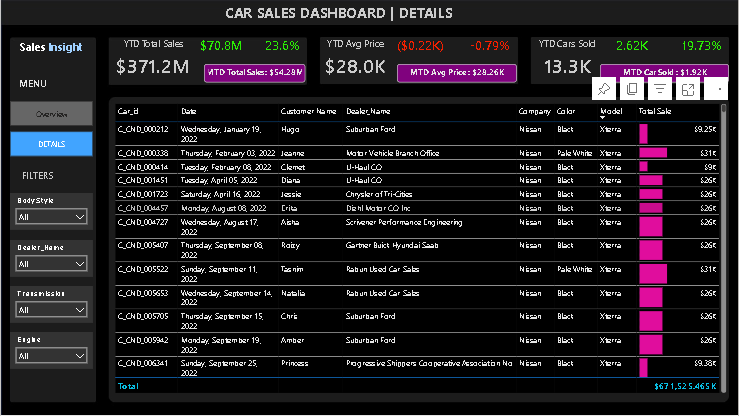

This screenshot's page, from the dashboard's own definition file:
{"tool":"powerbi","page":{"name":"DETAILS","canvas":[1280,720],"ordinal":1},"visuals":[{"type":"card","title":" YTD Total Sales","fields":{"Values":["Car_data.YTD Total Sales"]},"box":[192,64,144,80],"z":0},{"type":"card","fields":{"Values":["Car_data.Sales Difference"]},"box":[336,64,96,32],"z":1000},{"type":"card","fields":{"Values":["Car_data.YOY Sales Growth"]},"box":[448,64,80,32],"z":2000},{"type":"card","fields":{"Values":["Car_data.MTD KPI"]},"box":[352,112,176,32],"z":3000},{"type":"card","title":" YTD Avg Price","fields":{"Values":["Car_data.YTD Avg Price"]},"box":[560,64,112,80],"z":4000},{"type":"card","fields":{"Values":["Car_data.Avg price Diff"]},"box":[672,64,112,32],"z":5000},{"type":"card","fields":{"Values":["Car_data.YoY Avg Price Growth"]},"box":[800,64,96,32],"z":6000},{"type":"card","fields":{"Values":["Car_data.MTD Avg price KPI"]},"box":[688,112,208,32],"z":7000},{"type":"card","title":" YTD Cars Sold","fields":{"Values":["Car_data.YTD car Sold"]},"box":[928,64,112,80],"z":8000},{"type":"card","fields":{"Values":["Car_data.Car Sold Diff"]},"box":[1040,64,112,32],"z":9000},{"type":"card","fields":{"Values":["Car_data.YoY Car Sold"]},"box":[1168,64,96,32],"z":10000},{"type":"card","fields":{"Values":["Car_data.MTD Cars Sold KPI"]},"box":[1040,112,224,32],"z":11000},{"type":"textbox","box":[384,0,464,48],"z":12000},{"type":"slicer","fields":{"Values":["Car_data.Body Style"]},"box":[16,336,144,64],"z":13000},{"type":"slicer","fields":{"Values":["Car_data.Dealer_Name"]},"box":[16,416,144,64],"z":14000},{"type":"slicer","fields":{"Values":["Car_data.Transmission"]},"box":[16,496,144,64],"z":15000},{"type":"slicer","fields":{"Values":["Car_data.Engine"]},"box":[16,576,144,64],"z":16000},{"type":"textbox","box":[16,288,96,32],"z":17000},{"type":"tableEx","fields":{"Values":["Car_data.Car_id","Car_data.Date","Car_data.Customer Name","Car_data.Dealer_Name","Car_data.Company","Car_data.Color","Car_data.Model","Car_data.Total Sale"]},"box":[192,176,1072,512],"z":18000},{"type":"textbox","box":[16,64,144,48],"z":19000},{"type":"textbox","box":[16,128,80,32],"z":20000},{"type":"pageNavigator","box":[16,176,144,96],"z":21000}]}

Visuals, with their boxes on the page's 1280x720 design canvas (x1, y1, x2, y2). These are canvas units, not pixel positions in the 739x416 screenshot, which may show the page scaled, cropped or inside an application window:
" YTD Total Sales" card: 192:64:336:144
card - Car_data.Sales Difference: 336:64:432:96
card - Car_data.YOY Sales Growth: 448:64:528:96
card - Car_data.MTD KPI: 352:112:528:144
" YTD Avg Price" card: 560:64:672:144
card - Car_data.Avg price Diff: 672:64:784:96
card - Car_data.YoY Avg Price Growth: 800:64:896:96
card - Car_data.MTD Avg price KPI: 688:112:896:144
" YTD Cars Sold" card: 928:64:1040:144
card - Car_data.Car Sold Diff: 1040:64:1152:96
card - Car_data.YoY Car Sold: 1168:64:1264:96
card - Car_data.MTD Cars Sold KPI: 1040:112:1264:144
textbox: 384:0:848:48
slicer - Car_data.Body Style: 16:336:160:400
slicer - Car_data.Dealer_Name: 16:416:160:480
slicer - Car_data.Transmission: 16:496:160:560
slicer - Car_data.Engine: 16:576:160:640
textbox: 16:288:112:320
tableEx - Car_data.Car_id x Car_data.Date: 192:176:1264:688
textbox: 16:64:160:112
textbox: 16:128:96:160
pageNavigator: 16:176:160:272
